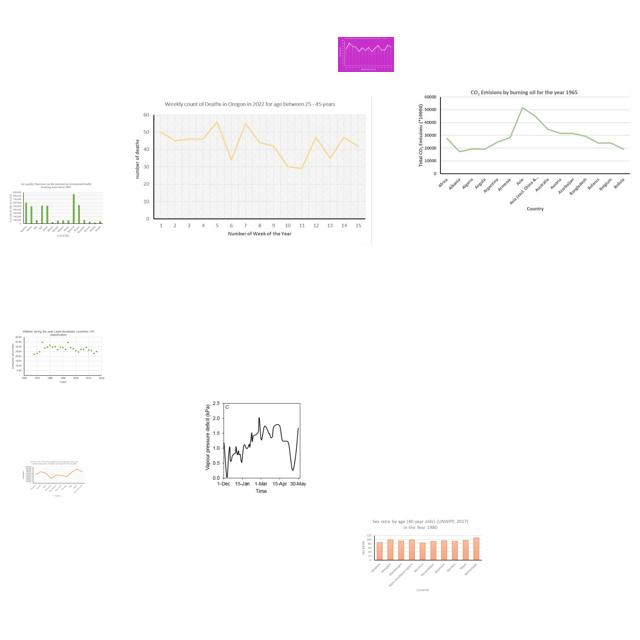Graph: (129, 97, 372, 244), (418, 88, 632, 212), (203, 399, 308, 495), (360, 518, 484, 593), (8, 181, 105, 238), (11, 329, 105, 384), (22, 460, 86, 497), (338, 37, 394, 72)
